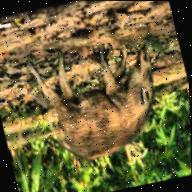boar: (12, 24, 188, 180)
